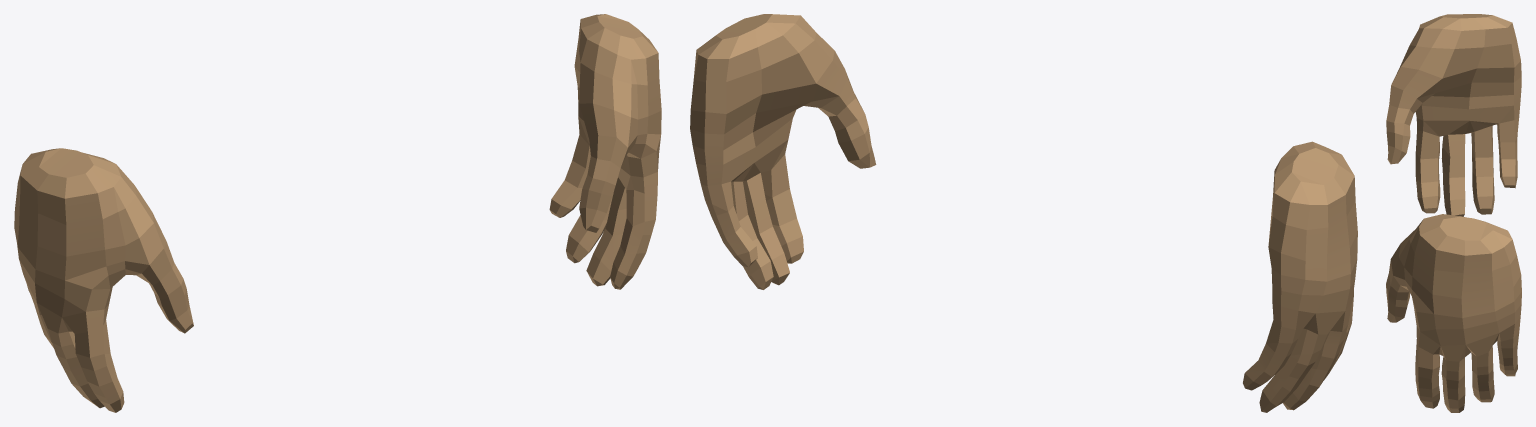
The model's file is Hands.glb.
The picture shows the model from 3 angles, left to right: view 1: azimuth 30°, elevation 25°; view 2: azimuth 150°, elevation 25°; view 3: azimuth 270°, elevation 25°; orthographic projection. The views are drawn at different scales.
Parts seen in each view (by area): view 1: Hands; view 2: Hands; view 3: Hands.
Part boxes in pixels (x1,y1,x2,y2): Hands: (14,14,661,412); Hands: (690,14,1357,412); Hands: (1386,14,1521,412).
Size of the model in its own units: 16.59 by 6.46 by 3.99.
1 material, 1 textured.
